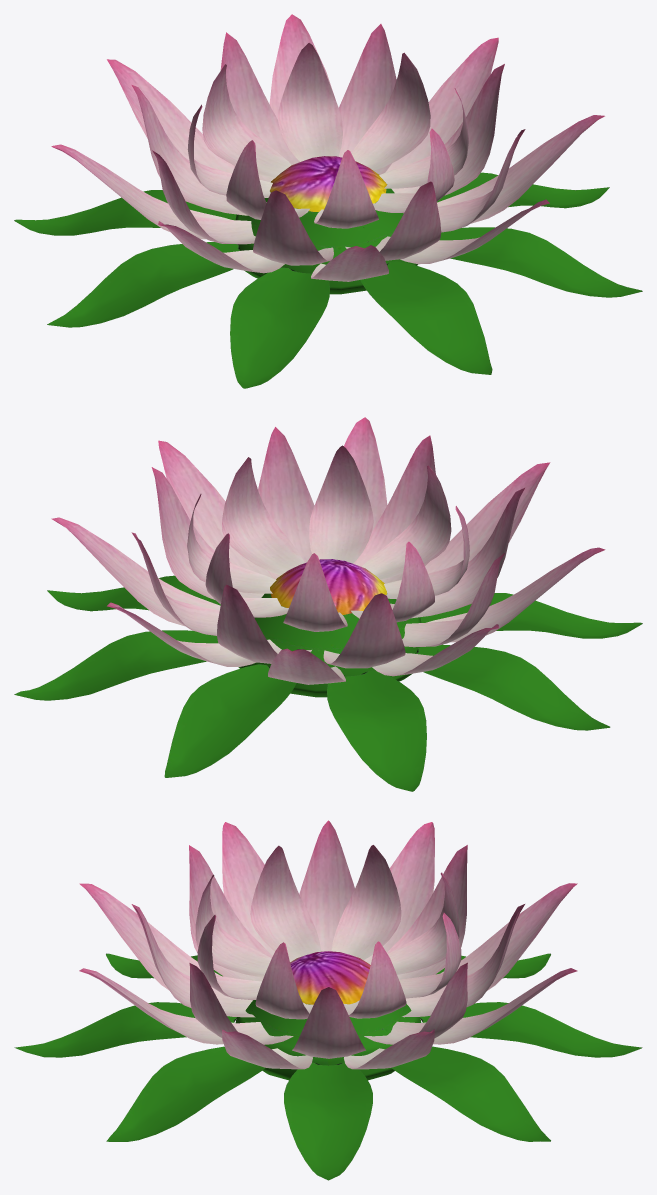
Rendered from reallotus.glb.
3 renders of one model, top to bottom at view 1: azimuth 30°, elevation 25°; view 2: azimuth 150°, elevation 25°; view 3: azimuth 270°, elevation 25°, orthographic. The views are drawn at different scales.
Parts seen in each view (by area): view 1: pistil_0; view 2: pistil_0; view 3: pistil_0.
Boxes of the visible parts, x1,y1,x2,y2 form: pistil_0: [14, 14, 642, 388]; pistil_0: [14, 417, 642, 791]; pistil_0: [14, 820, 642, 1180].
Bounding box in the file's own units: 0.55 × 0.1541 × 0.55.
1 material, 1 textured.
